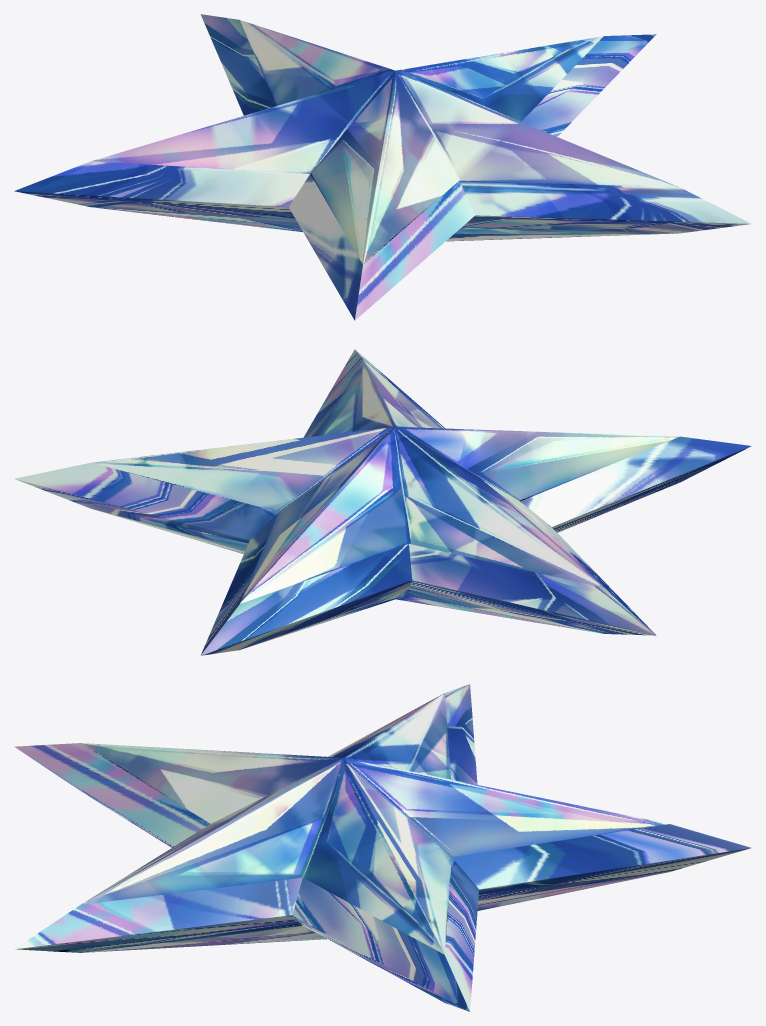
Rendered from BintangSv2.glb.
3 views of the same model, one above another, from view 1: azimuth 30°, elevation 25°; view 2: azimuth 150°, elevation 25°; view 3: azimuth 270°, elevation 25° (orthographic). The views are drawn at different scales.
Visible parts, largest first — view 1: Cylinder; view 2: Cylinder; view 3: Cylinder.
Part boxes in pixels (bbox=[...]): Cylinder: bbox=[14, 14, 751, 320]; Cylinder: bbox=[14, 349, 751, 655]; Cylinder: bbox=[14, 684, 750, 1011].
Size of the model in its own units: 1.9 by 0.4879 by 1.81.
1 material, 1 textured.
